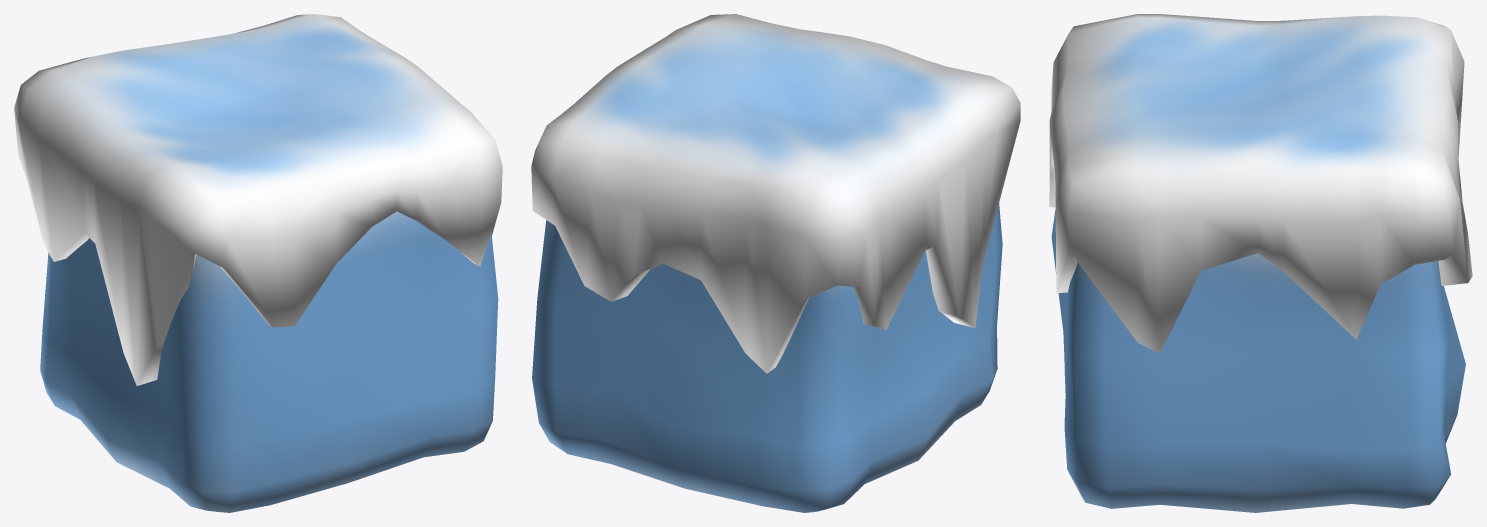
File: IceBlock6.fbx
3 renders of one model, left to right at view 1: azimuth 30°, elevation 25°; view 2: azimuth 150°, elevation 25°; view 3: azimuth 270°, elevation 25°, orthographic. The views are drawn at different scales.
Visible parts, largest first — view 1: Cube.006; view 2: Cube.006; view 3: Cube.006.
Part boxes in pixels (x1,y1,x2,y2): Cube.006: (14,14,502,512); Cube.006: (531,14,1020,512); Cube.006: (1049,14,1472,512).
Bounding box in the file's own units: 219 × 217 × 221.
